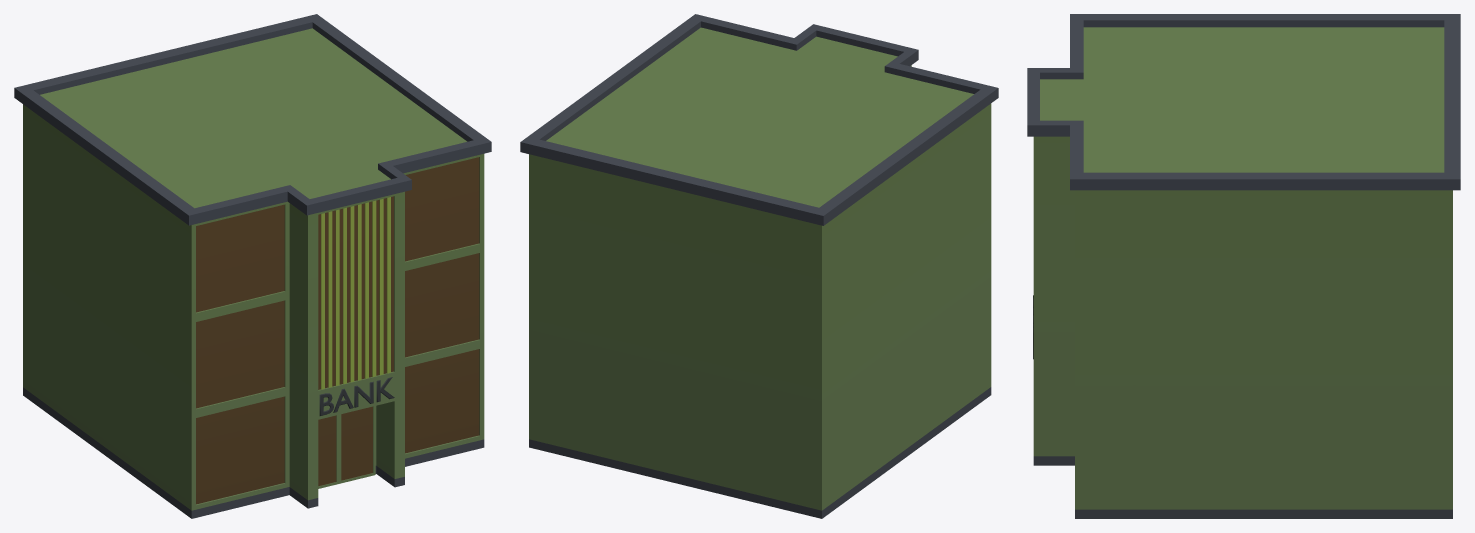
The model's file is Bank_01.fbx.
3 renders of one model, left to right at view 1: azimuth 30°, elevation 25°; view 2: azimuth 150°, elevation 25°; view 3: azimuth 270°, elevation 25°, orthographic. The views are drawn at different scales.
Parts seen in each view (by area): view 1: Bank_01; view 2: Bank_01; view 3: Bank_01.
Boxes of the visible parts, left/top/right/bottom form: Bank_01: left=14, top=14, right=491, bottom=518; Bank_01: left=520, top=14, right=998, bottom=518; Bank_01: left=1027, top=14, right=1460, bottom=518.
Size of the model in its own units: 8.27 by 8 by 9.18.
